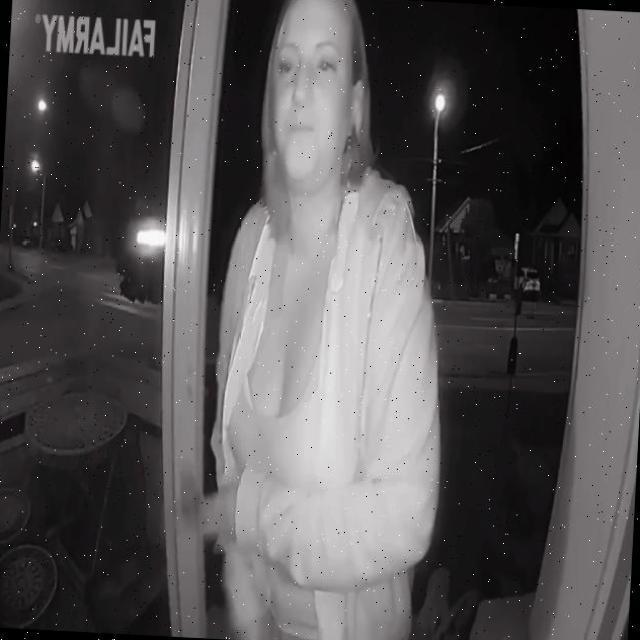person: (183, 0, 464, 640)
